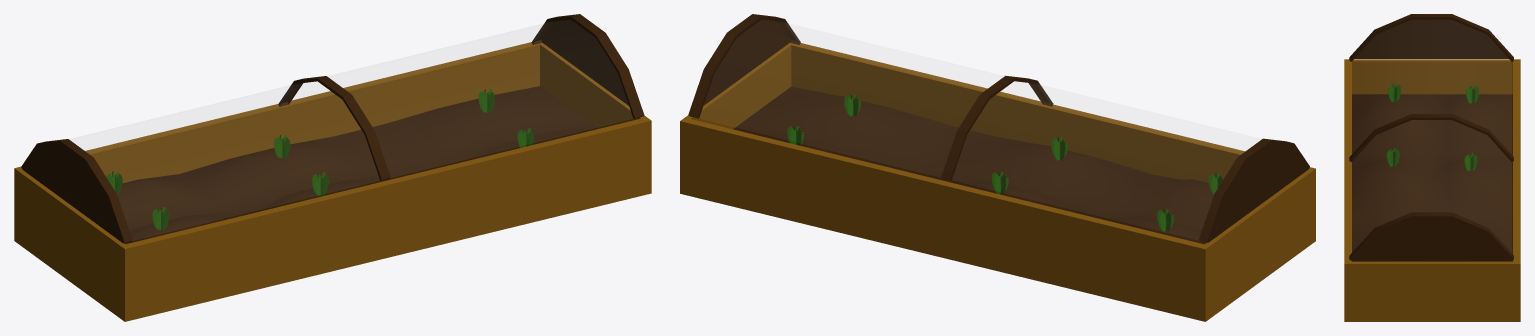
File: Garden.FBX
3 views of the same model, side by side, from view 1: azimuth 30°, elevation 25°; view 2: azimuth 150°, elevation 25°; view 3: azimuth 270°, elevation 25° (orthographic). The views are drawn at different scales.
Visible parts, largest first — view 1: Box001, Plane001, Cylinder001; view 2: Box001, Plane001, Cylinder001; view 3: Plane001, Box001, Cylinder001.
Part boxes in pixels (x1,y1,x2,y2): Box001: (14,42,651,321); Plane001: (117,86,598,243); Cylinder001: (21,14,644,243); Box001: (680,43,1315,321); Plane001: (733,86,1213,244); Cylinder001: (688,14,1309,242); Plane001: (1352,94,1512,261); Box001: (1344,59,1520,321); Cylinder001: (1349,14,1513,260).
Size of the model in its own units: 218 by 51.78 by 79.28.
